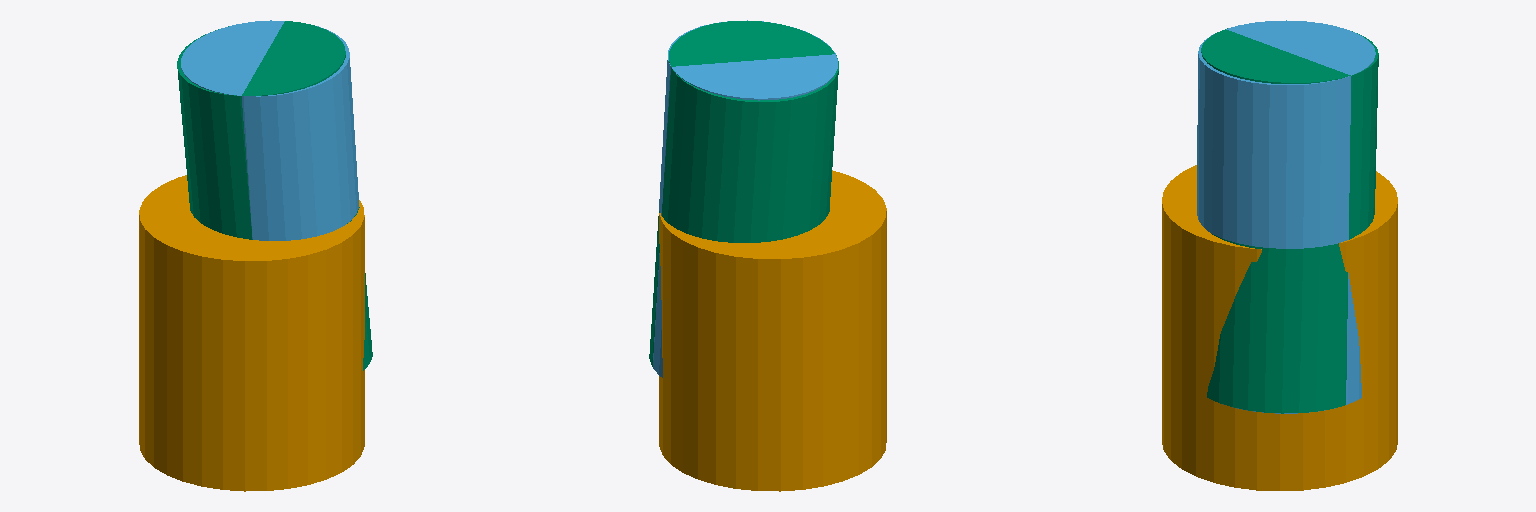
URDF robot description (pepe):
<?xml version="1.0"?><robot name="pepe">
	<link name="0">
		<visual>
			<geometry>
				<cylinder length="2.052335271366942" radius="0.9127046226389154"/>
			</geometry>
		</visual>
		<collision>
			<geometry>
				<cylinder length="2.052335271366942" radius="0.9127046226389154"/>
			</geometry>
		</collision>
		<inertial>
			<mass value="5.371043651051132"/>
			<inertia ixx="0.03" iyy="0.03" izz="0.03" ixy="0" ixz="0" iyx="0"/>
		</inertial>
	</link>
	<link name="11">
		<visual>
			<geometry>
				<cylinder length="2.720529469580537" radius="0.6857722412340251"/>
			</geometry>
		</visual>
		<collision>
			<geometry>
				<cylinder length="2.720529469580537" radius="0.6857722412340251"/>
			</geometry>
		</collision>
		<inertial>
			<mass value="4.019417423712551"/>
			<inertia ixx="0.03" iyy="0.03" izz="0.03" ixy="0" ixz="0" iyx="0"/>
		</inertial>
	</link>
	<link name="12">
		<visual>
			<geometry>
				<cylinder length="2.720529469580537" radius="0.6857722412340251"/>
			</geometry>
		</visual>
		<collision>
			<geometry>
				<cylinder length="2.720529469580537" radius="0.6857722412340251"/>
			</geometry>
		</collision>
		<inertial>
			<mass value="4.019417423712551"/>
			<inertia ixx="0.03" iyy="0.03" izz="0.03" ixy="0" ixz="0" iyx="0"/>
		</inertial>
	</link>
	<joint name="11_to_0" type="revolute">
		<parent link="0"/>
		<child link="11"/>
		<axis xyz="0 1 0"/>
		<limit effort="1" upper="-3.1415" lower="3.1415" velocity="1"/>
		<origin rpy="6.3315651589761375 0.039715933357235375 3.9288668320383104" xyz="0.24049241116170572 0.045050590477013985 0.9942391672130761"/>
	</joint>
	<joint name="12_to_0" type="revolute">
		<parent link="0"/>
		<child link="12"/>
		<axis xyz="0 1 0"/>
		<limit effort="1" upper="-3.1415" lower="3.1415" velocity="1"/>
		<origin rpy="9.497347738464207 0.039715933357235375 3.9288668320383104" xyz="0.24049241116170572 0.045050590477013985 0.9942391672130761"/>
	</joint>
</robot>

--- Facts derived from the render (not from the file) ---
3 views of the same robot in one strip: view 1: azimuth 30°, elevation 25°; view 2: azimuth 150°, elevation 25°; view 3: azimuth 270°, elevation 25° (orthographic).
Model pepe with 3 links and 2 joints (2 revolute), rooted at 0, posed every joint at zero.
Links seen in each view (by area): view 1: 0, 11, 12; view 2: 0, 12, 11; view 3: 0, 11, 12.
Link boxes in pixels (x1,y1,x2,y2): 0: [139, 175, 364, 491]; 11: [181, 20, 358, 240]; 12: [177, 21, 372, 370]; 0: [659, 170, 886, 491]; 12: [649, 21, 838, 366]; 11: [653, 20, 837, 377]; 0: [1162, 165, 1397, 490]; 11: [1197, 20, 1375, 413]; 12: [1201, 28, 1378, 413].
Bounding box of the posed robot: 1.94 × 1.83 × 3.43 m (x, y, z).
Geometry: primitives only (box / cylinder / sphere), no mesh files.
